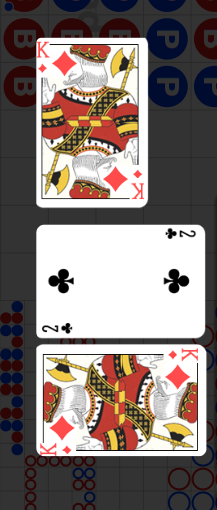2C: (163, 228, 197, 241)
